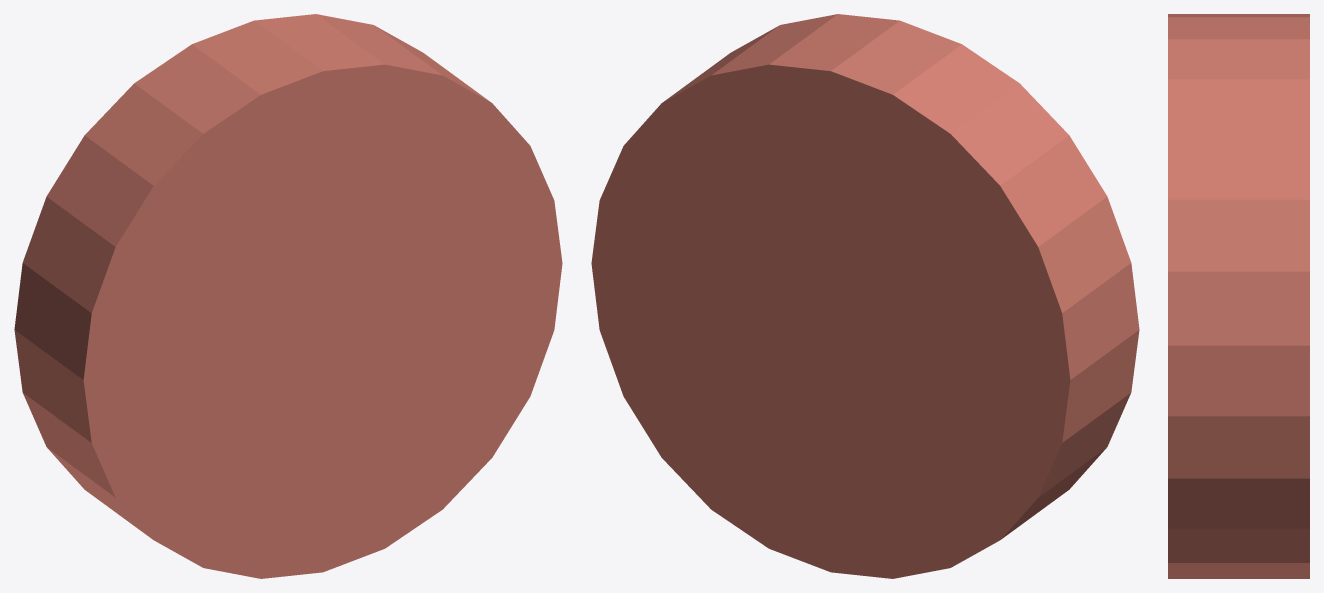
Rendered from cresome.glb.
The picture shows the model from 3 angles, left to right: view 1: azimuth 30°, elevation 25°; view 2: azimuth 150°, elevation 25°; view 3: azimuth 270°, elevation 25°; orthographic projection. The views are drawn at different scales.
Parts seen in each view (by area): view 1: geometry_0; view 2: geometry_0; view 3: geometry_0.
Boxes of the visible parts, x1=… form: geometry_0: x1=14, y1=14, x2=562, y2=578; geometry_0: x1=591, y1=14, x2=1139, y2=578; geometry_0: x1=1168, y1=14, x2=1309, y2=578.
Bounding box in the file's own units: 1 × 1 × 0.25.
